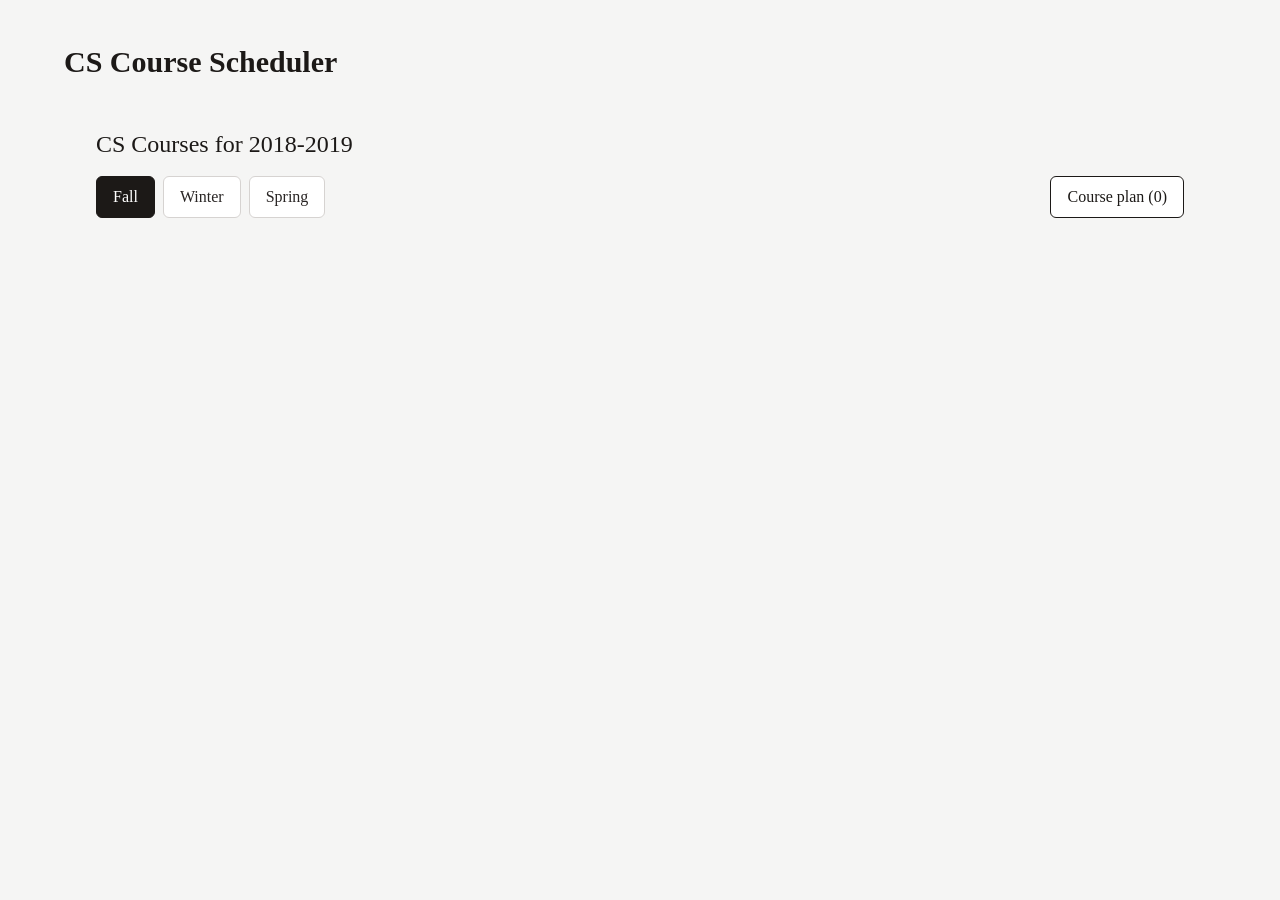
Test: App › shows instructions when opening an empty course plan
Expected: the button "Fall" is shown, [96,176,155,218]
Click the button "Course plan (0)".
click(1117, 197)  # box [1050,176,1184,218]
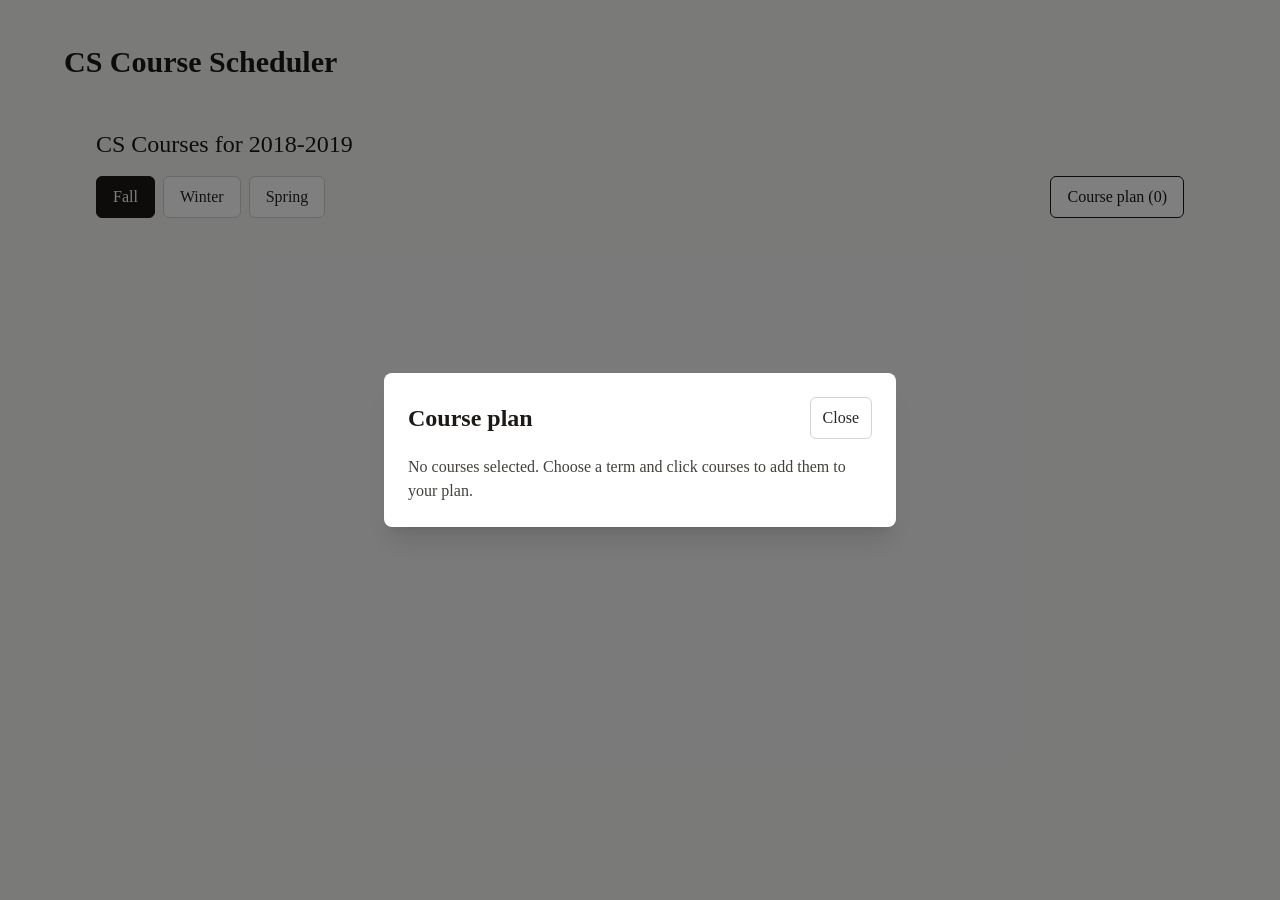
Expected: the text "click courses to add them" is shown, [408,458,846,499]
